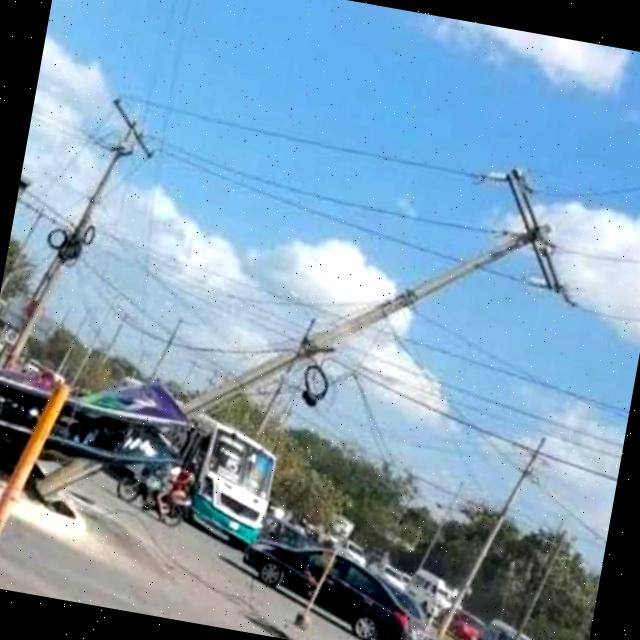Broken Pole: (25, 163, 577, 506)
